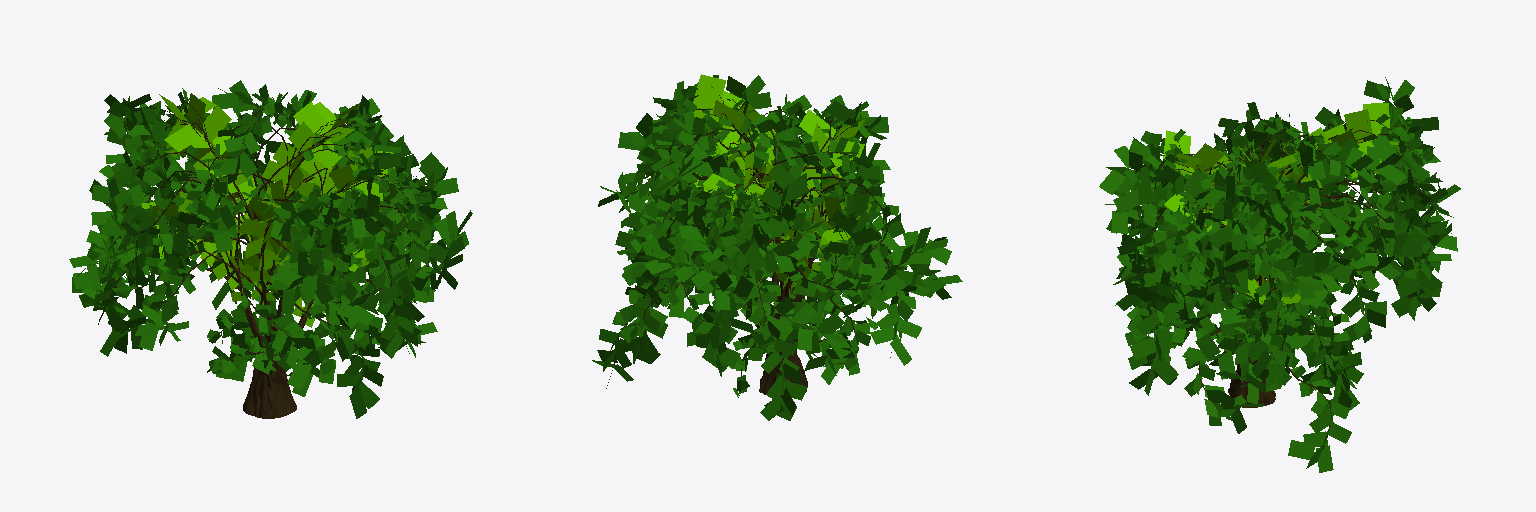
The model's file is elm.obj.
The picture shows the model from 3 angles: view 1: azimuth 30°, elevation 25°; view 2: azimuth 150°, elevation 25°; view 3: azimuth 270°, elevation 25°; orthographic projection.
Parts seen in each view (by area): view 1: plant_pmat4.001, plant_pmat5.001, plant_pmat7.001, plant_pmat3.001, plant_pmat1.001, plant_pmat2.001; view 2: plant_pmat4.001, plant_pmat5.001, plant_pmat3.001, plant_pmat7.001, plant_pmat1.001; view 3: plant_pmat4.001, plant_pmat5.001, plant_pmat3.001, plant_pmat1.001.
Boxes of the visible parts, <box> form: plant_pmat4.001: <box>69,80,472,418</box>; plant_pmat5.001: <box>141,93,400,327</box>; plant_pmat7.001: <box>207,265,324,381</box>; plant_pmat3.001: <box>90,102,446,363</box>; plant_pmat1.001: <box>243,335,296,418</box>; plant_pmat2.001: <box>186,122,354,342</box>; plant_pmat4.001: <box>592,75,962,420</box>; plant_pmat5.001: <box>672,74,871,309</box>; plant_pmat3.001: <box>614,95,912,398</box>; plant_pmat7.001: <box>729,270,877,396</box>; plant_pmat1.001: <box>759,315,807,396</box>; plant_pmat4.001: <box>1099,77,1460,472</box>; plant_pmat5.001: <box>1163,103,1400,344</box>; plant_pmat3.001: <box>1121,119,1431,450</box>; plant_pmat1.001: <box>1228,339,1275,407</box>.
Size of the model in its own units: 7.1 by 5.94 by 6.56.